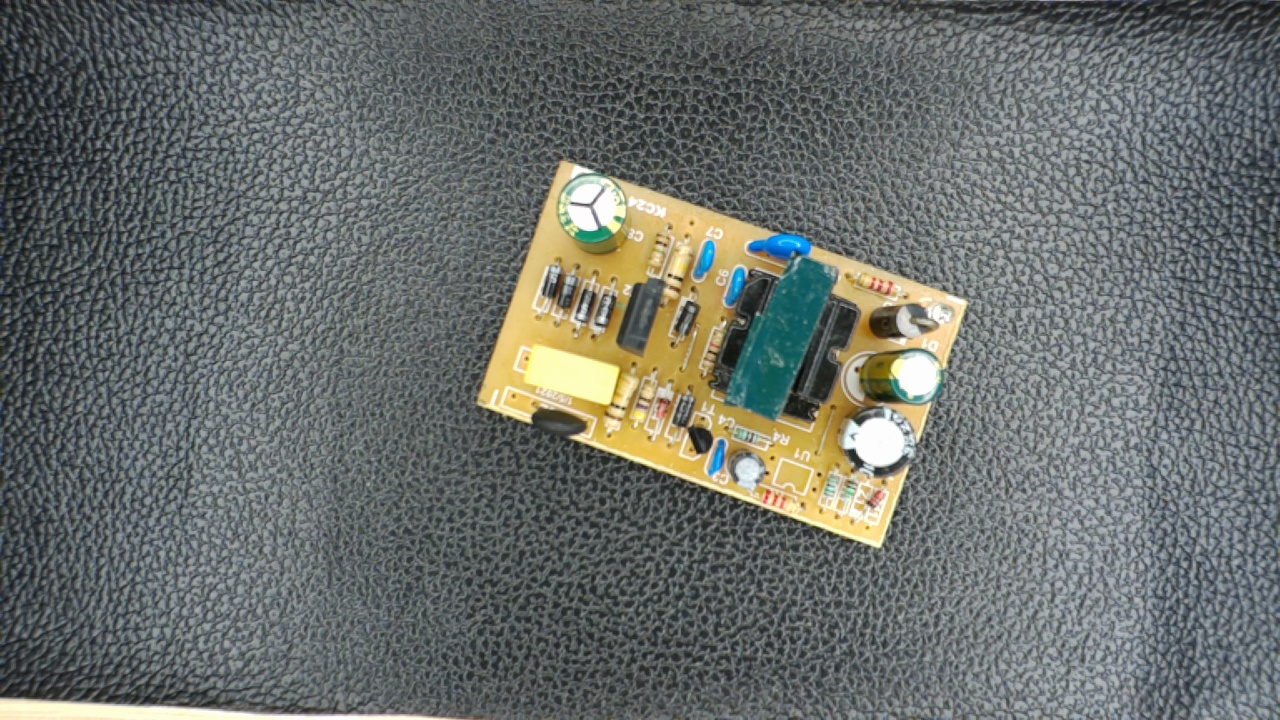fuse: (521, 399, 596, 441)
hv_capacitor: (552, 168, 633, 257)
mov: (740, 227, 815, 266)
